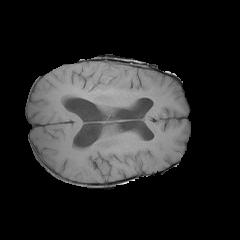glioma: (69, 63, 131, 100)
